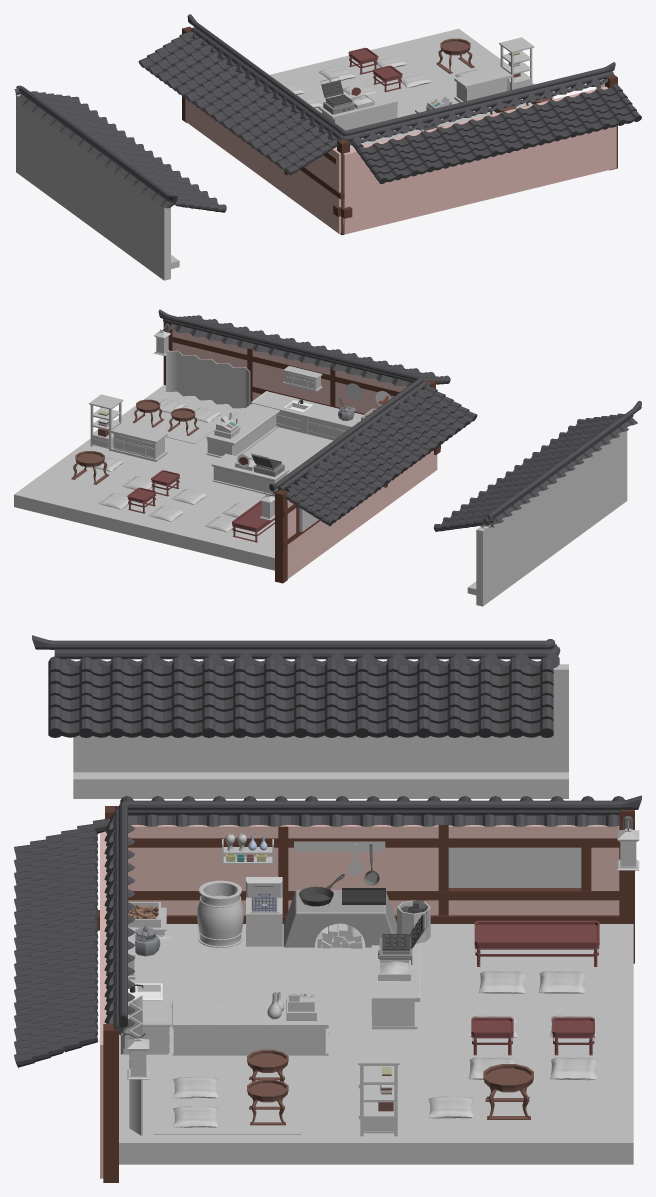
File: 최종맵.fbx
3 renders of one model, top to bottom at view 1: azimuth 30°, elevation 25°; view 2: azimuth 150°, elevation 25°; view 3: azimuth 270°, elevation 25°, orthographic. The views are drawn at different scales.
Visible parts, largest first — view 1: giwa, polySurface4, pCube72, polySurface123, giwa03, Window, display_cupboard, polySurface156, MainDesk_real, table, MainDesk_one3, polySurface206 (+1 smaller); view 2: polySurface123, giwa, pCube72, giwa03, polySurface4, Window, Folding_screen, Mat, display_cupboard, Kitchen_Desk, polySurface156, polySurface167 (+14 smaller); view 3: polySurface123, giwa03, giwa, pCube72, Window, pCube73, Mat, polySurface165, polySurface208, polySurface160, Fire, polySurface161 (+31 smaller).
Part boxes in pixels (x1,y1,x2,y2): giwa: [138, 14, 641, 183]; polySurface4: [343, 86, 616, 234]; pCube72: [16, 94, 170, 280]; polySurface123: [270, 28, 554, 223]; giwa03: [14, 85, 226, 212]; Window: [185, 98, 341, 233]; display_cupboard: [454, 67, 512, 102]; polySurface156: [499, 37, 534, 90]; MainDesk_real: [318, 104, 378, 130]; table: [436, 38, 474, 73]; MainDesk_one3: [367, 91, 397, 122]; polySurface206: [372, 65, 402, 92]; polySurface123: [14, 385, 333, 570]; giwa: [158, 309, 477, 526]; pCube72: [476, 431, 627, 606]; giwa03: [433, 401, 641, 531]; polySurface4: [172, 330, 406, 413]; Window: [287, 450, 437, 578]; Folding_screen: [166, 350, 250, 408]; Mat: [124, 394, 237, 443]; display_cupboard: [111, 422, 167, 461]; Kitchen_Desk: [251, 391, 363, 440]; polySurface156: [89, 394, 123, 450]; polySurface167: [172, 337, 399, 396]; polySurface123: [119, 924, 633, 1164]; giwa03: [32, 635, 560, 737]; giwa: [14, 795, 641, 1067]; pCube72: [73, 664, 568, 798]; Window: [128, 825, 619, 915]; pCube73: [73, 772, 568, 789]; Mat: [154, 1071, 301, 1134]; polySurface165: [448, 847, 581, 887]; polySurface208: [474, 920, 599, 966]; polySurface160: [128, 838, 619, 847]; Fire: [283, 890, 396, 947]; polySurface161: [128, 888, 619, 900].
Size of what is drawn, in the model's own units: 3525 by 721 by 2428.
